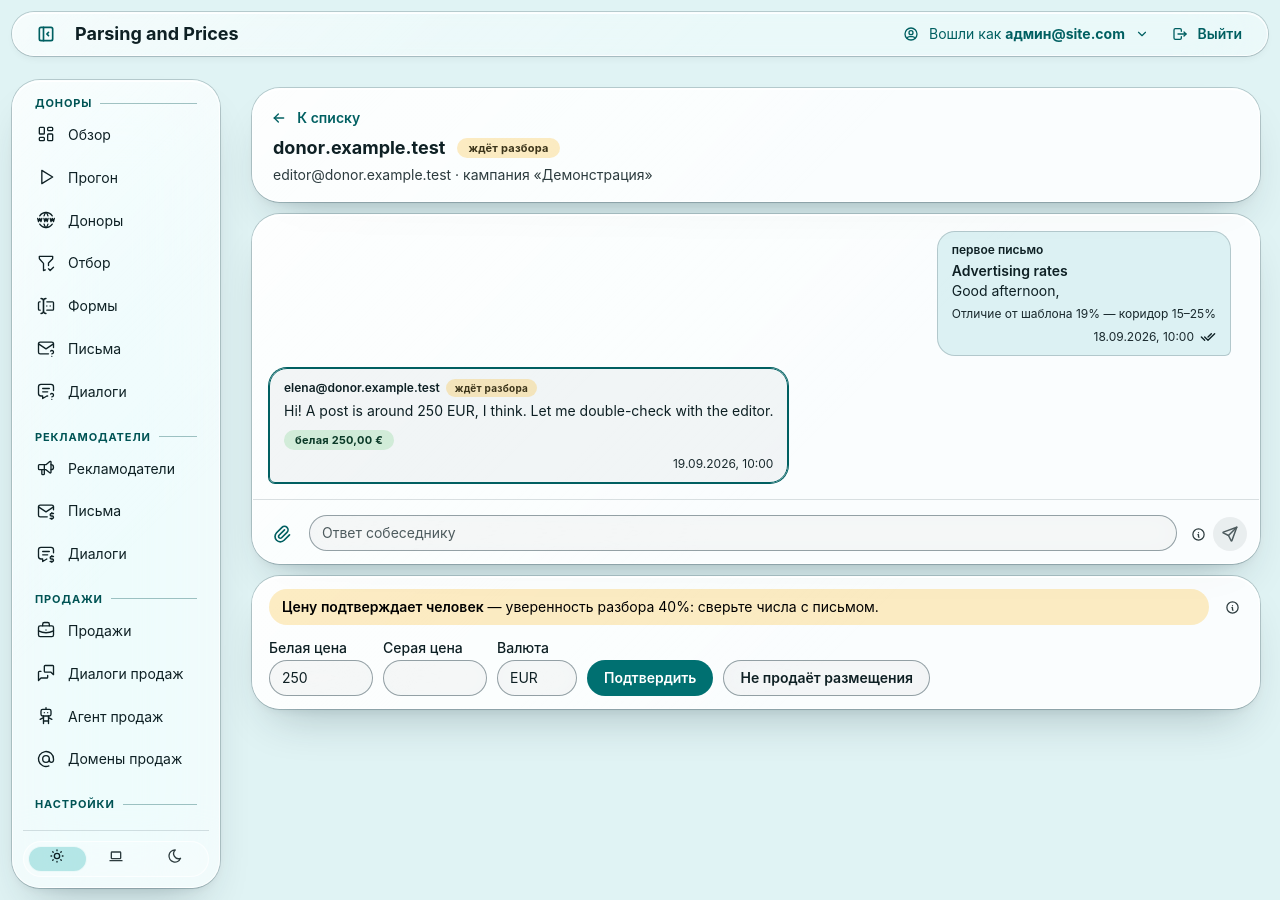
Test: карточка переписки › подтверждение уходит на сервер с поправленной ценой
This screenshot has width=1280, height=900.
Expected: the heading "donor.example.test" is shown, [273,135,445,161]
Replace the text in the field labelled "Белая цена" with "300" at (321,678), box [269,660,373,696]
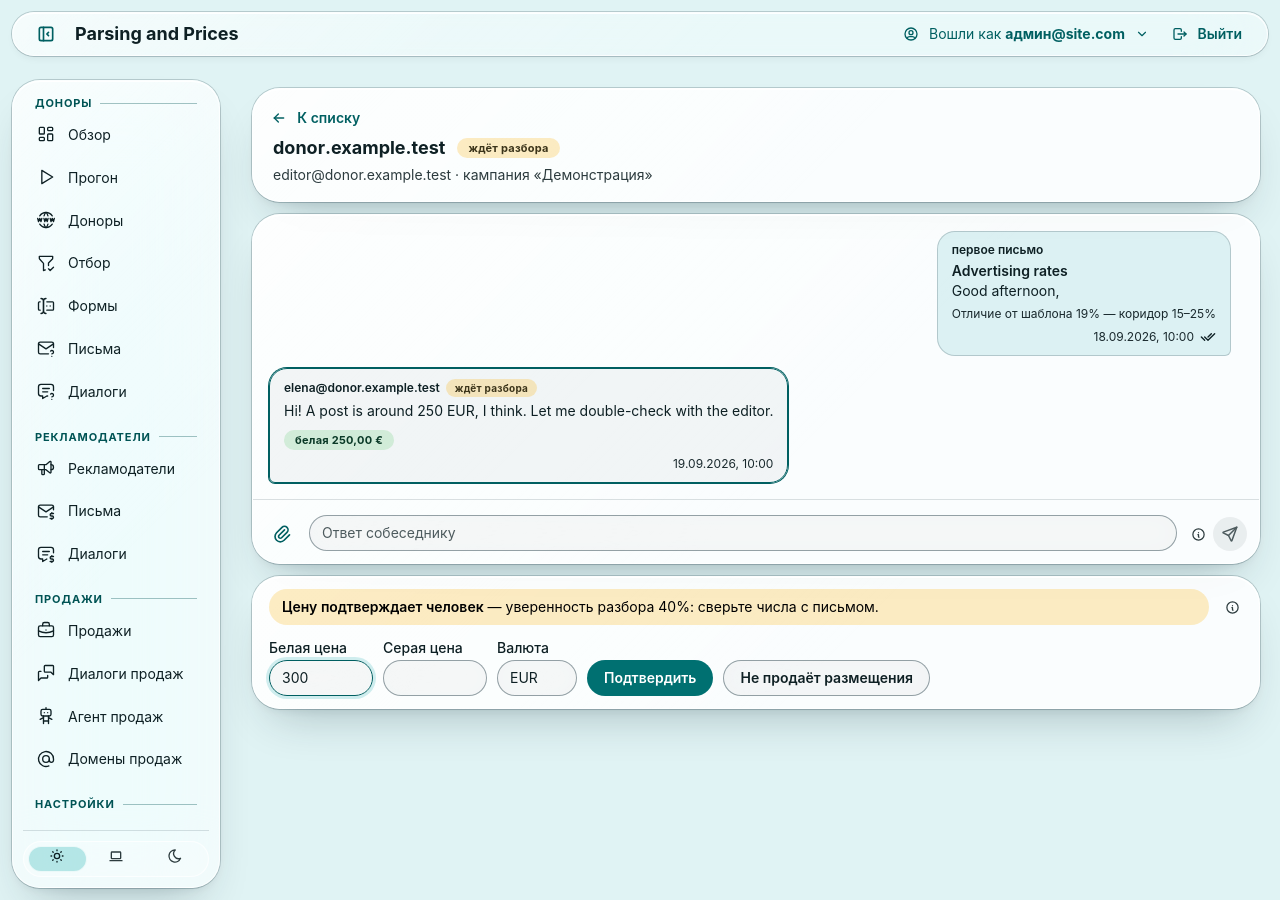
Click the button "Подтвердить".
click(650, 678)  # box [587,660,714,696]
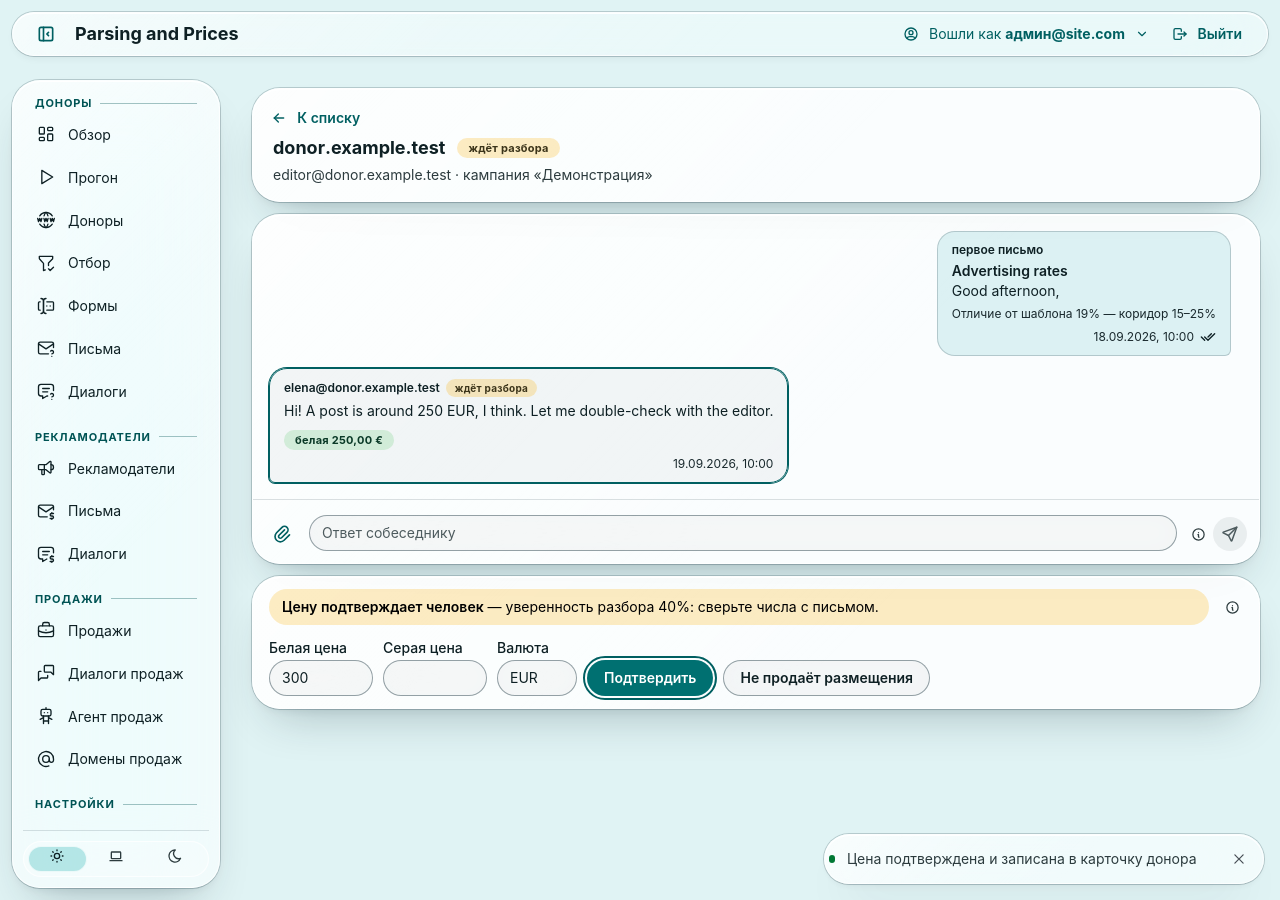
Expected: the text "Цена подтверждена и записана в карточку донора" is shown, [847,849,1215,869]
